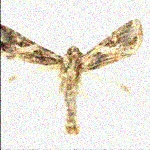Spodoptera litura: (0, 17, 145, 136)
